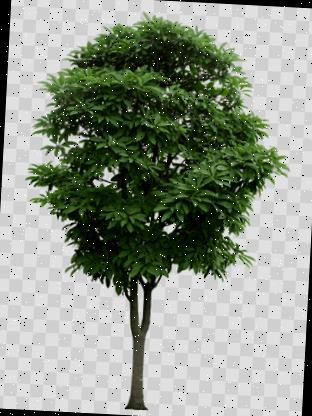tree: (10, 4, 297, 416)
